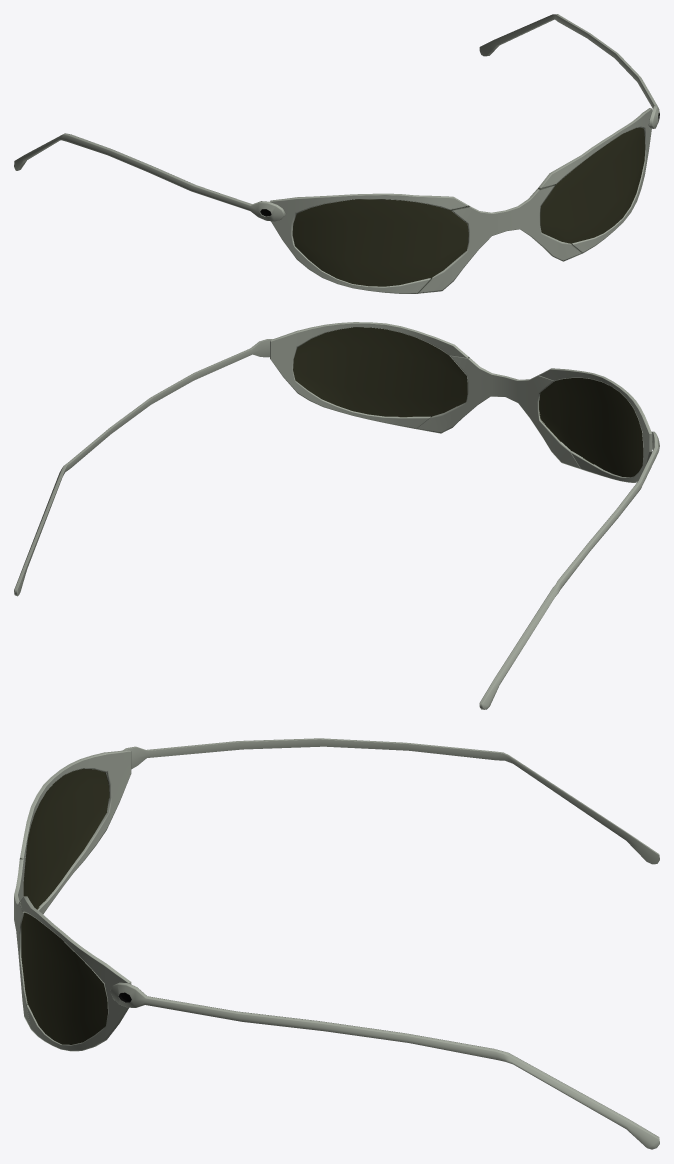
The model's file is Baller.glb.
The picture shows the model from 3 angles, top to bottom: view 1: azimuth 30°, elevation 25°; view 2: azimuth 150°, elevation 25°; view 3: azimuth 270°, elevation 25°; orthographic projection. The views are drawn at different scales.
Visible parts, largest first — view 1: Baller; view 2: Baller; view 3: Baller.
Boxes of the visible parts, left/top/right/bottom form: Baller: left=14, top=14, right=659, bottom=293; Baller: left=14, top=322, right=659, bottom=709; Baller: left=14, top=738, right=659, bottom=1149.
Bounding box in the file's own units: 0.8239 × 0.1962 × 0.7413.
Materials: 1 (1 with a texture image).
